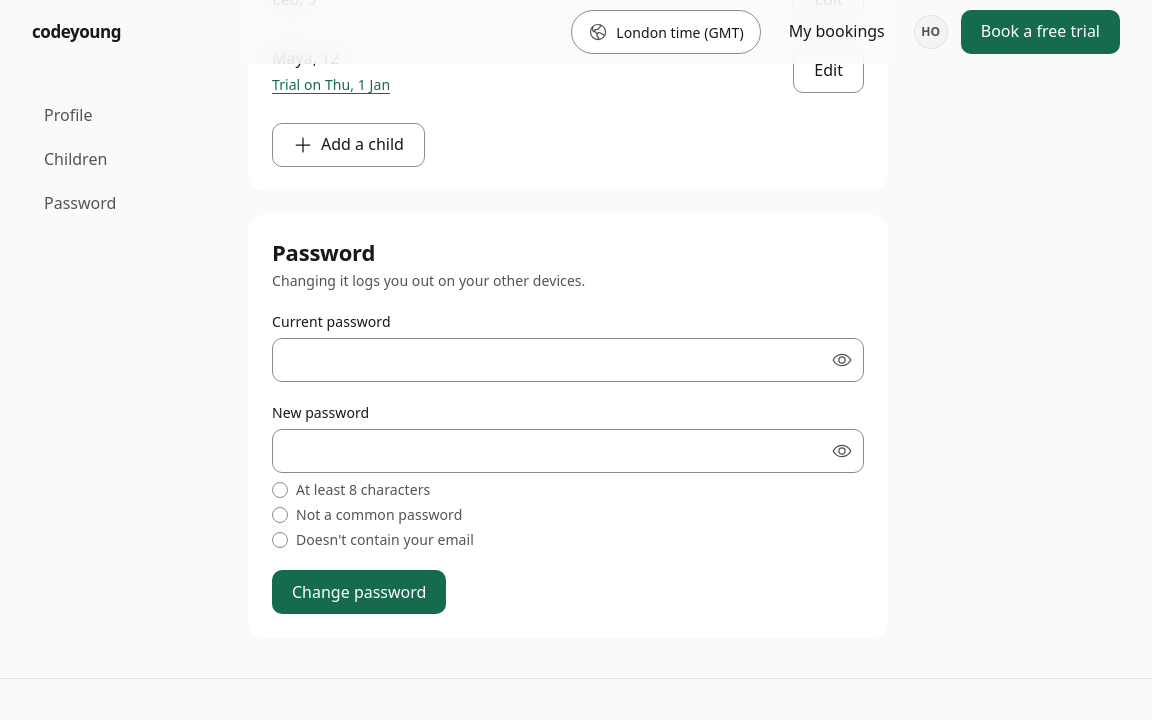
Test: password › refuses a new password that contains the email before sending it
This screenshot has width=1152, height=720.
(page scrolled)
Expected: the element "Password" is shown, [248,215,888,638]
Type "violet-harbour" into the password field labelled "Current password" at (568, 360), box [272,338,864,382]
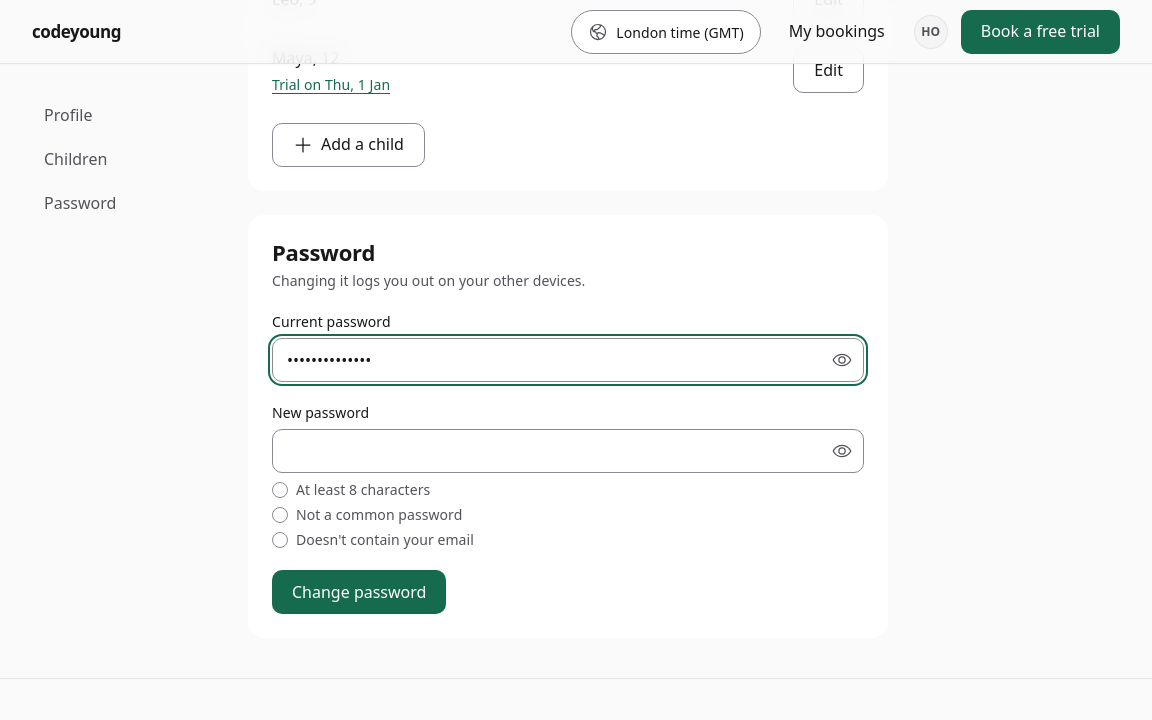
Type "hannah@okafor.co.uk forever" into the password field labelled "New password" at (568, 452), box [272,430,864,474]
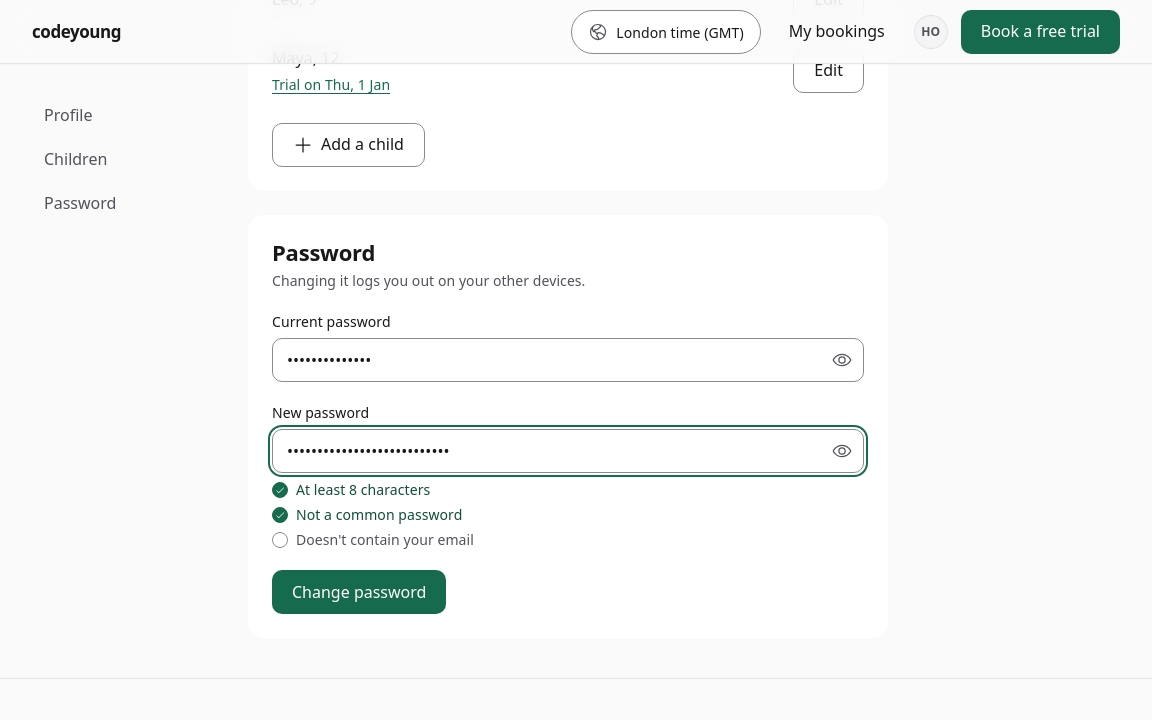
Click the button "Change password" at (359, 592), box [272,570,446,614]
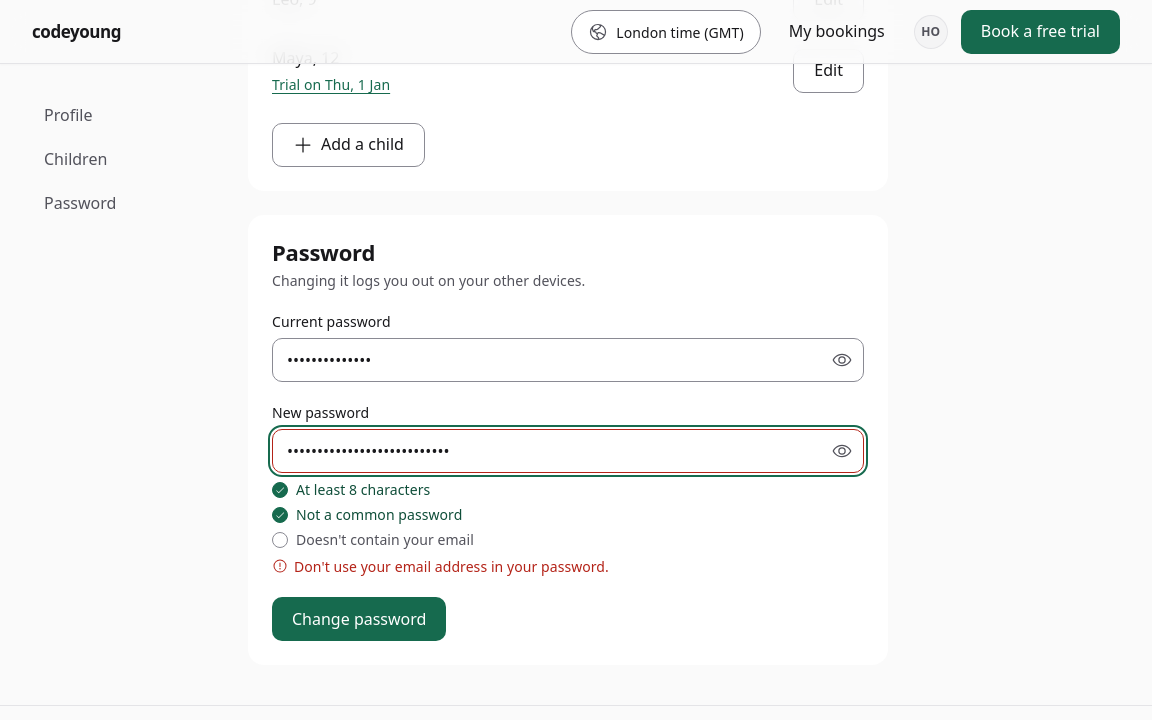
Expected: the text "Don't use your email address in your password." is shown, [294,556,609,578]
